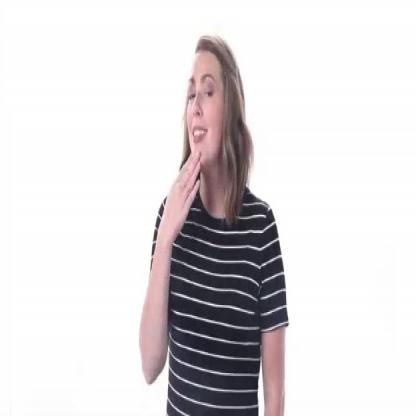ThankYou: (141, 17, 250, 259)
